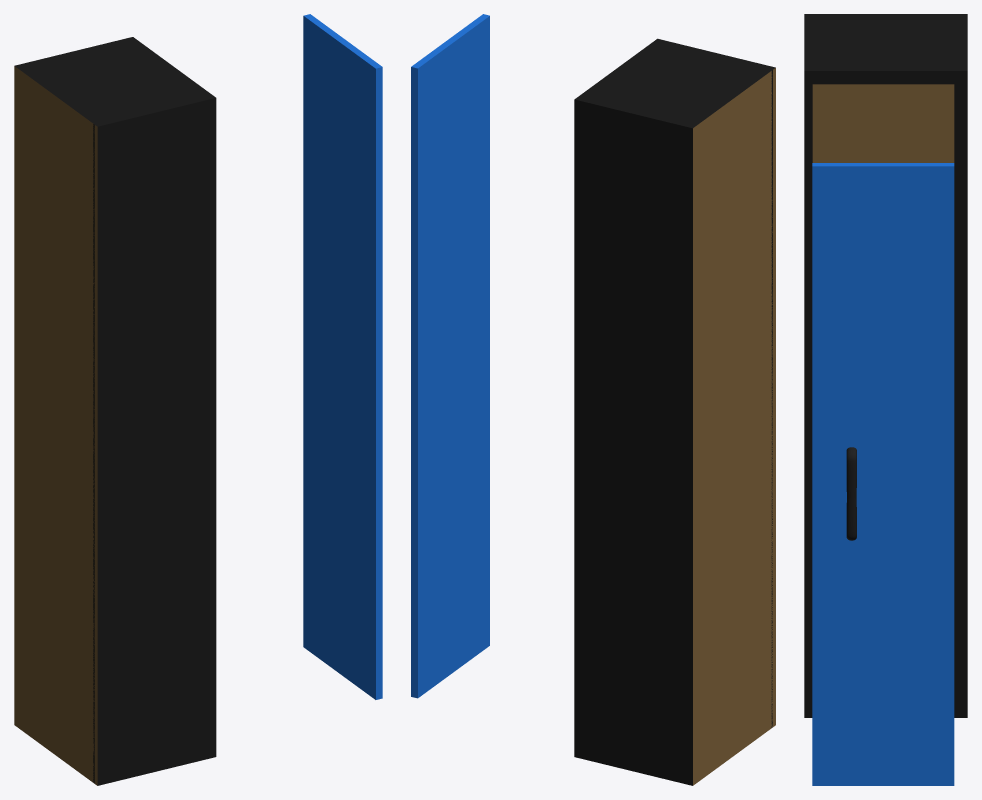
The model's file is skrinkya_oteviraci.fbx.
3 renders of one model, left to right at view 1: azimuth 30°, elevation 25°; view 2: azimuth 150°, elevation 25°; view 3: azimuth 270°, elevation 25°, orthographic.
Visible parts, largest first — view 1: Cube, Cube.001; view 2: Cube, Cube.001; view 3: Cube.001, Cube.
Boxes of the visible parts, x1=… form: Cube: x1=14, y1=37, x2=216, y2=785; Cube.001: x1=303, y1=14, x2=382, y2=699; Cube: x1=574, y1=38, x2=775, y2=785; Cube.001: x1=411, y1=14, x2=489, y2=698; Cube.001: x1=812, y1=163, x2=954, y2=785; Cube: x1=804, y1=14, x2=967, y2=717.
Bounding box in the file's own units: 200 × 420 × 96.28.
